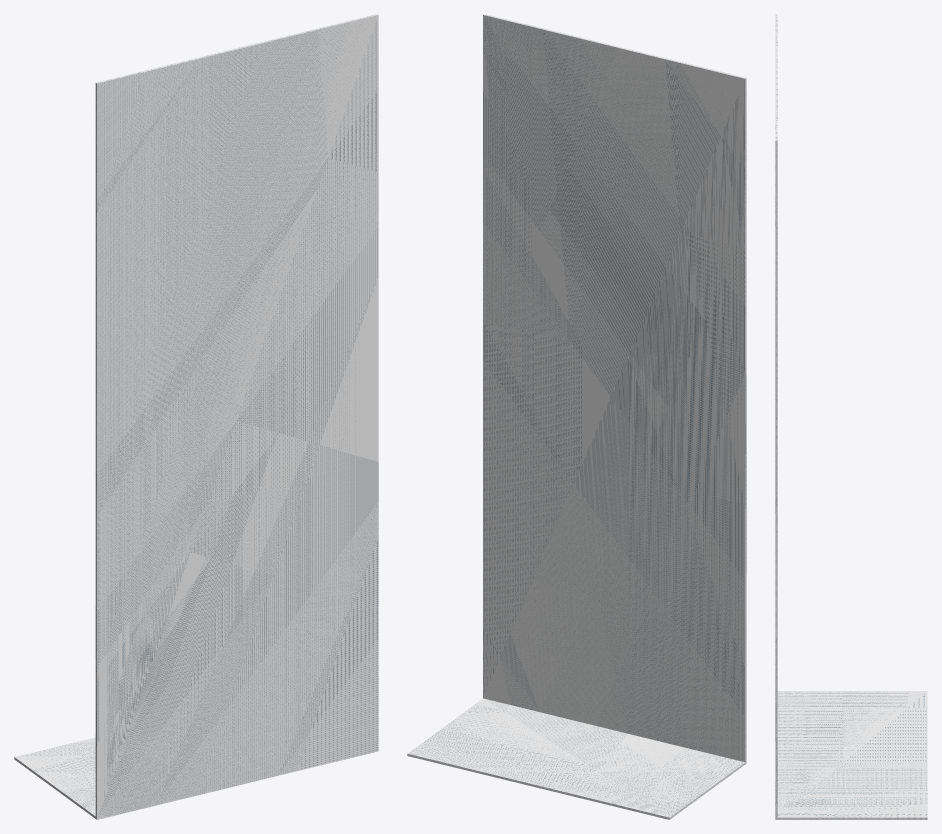
The model's file is 09_IW_SHELF_SEED_W300_H450_BOTTOM_1_300-0x750-0x152-5.dae.
3 views of the same model, side by side, from view 1: azimuth 30°, elevation 25°; view 2: azimuth 150°, elevation 25°; view 3: azimuth 270°, elevation 25° (orthographic). The views are drawn at different scales.
Visible parts, largest first — view 1: SketchUp; view 2: SketchUp; view 3: SketchUp.
Part boxes in pixels (x1,y1,x2,y2): SketchUp: [14, 14, 378, 819]; SketchUp: [407, 14, 746, 819]; SketchUp: [775, 14, 927, 819].
Bounding box in the file's own units: 11.81 × 6 × 29.53.
